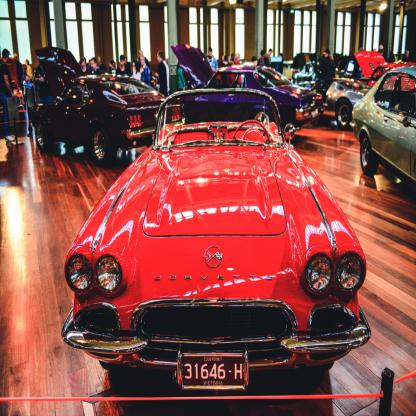Car: (0, 47, 416, 390)
